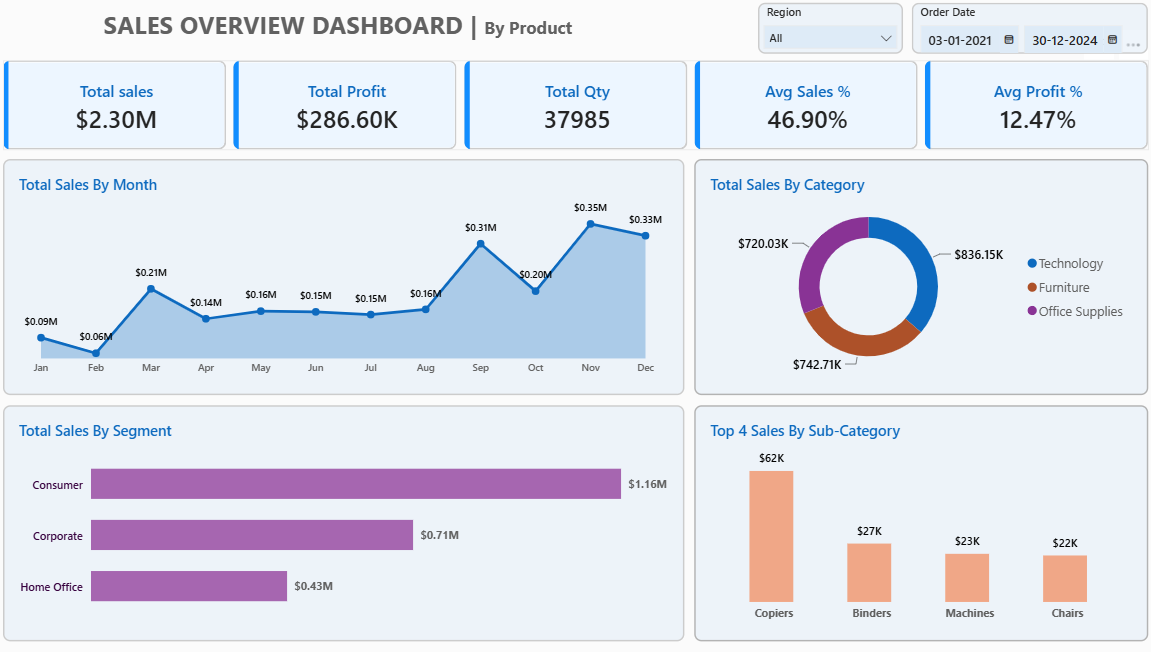

Layout of this report page (visuals, bound fields, positions):
{"tool":"powerbi","page":{"name":"Sales By Product","canvas":[1280,720],"ordinal":0},"visuals":[{"type":"textbox","box":[11,9.6,1257,46.7],"z":0},{"type":"cardVisual","fields":{"Data":["Measure_Table.Total sales","Measure_Table.Total Profit","Measure_Table.Total Qty","Measure_Table.Avg Sales %","Measure_Table.Avg Sales"]},"box":[11,67.2,1258.3,98.8],"z":1000},{"type":"areaChart","title":"Total Sales By Month","fields":{"Category":["Date_Table.Month"],"Y":["Measure_Table.Total sales"]},"box":[11,175.6,747.9,259.3],"z":2000},{"type":"donutChart","title":"Total Sales By Category","fields":{"Y":["Measure_Table.Total sales"],"Category":["Sales Data.Category"]},"box":[769.8,175.6,498.1,259.3],"z":3000},{"type":"clusteredBarChart","title":"Total Sales By Segment","fields":{"Category":["Sales Data.Segment"],"Y":["Measure_Table.Total sales"]},"box":[11,446,747.9,259.3],"z":4000},{"type":"columnChart","title":"Top 4 Sales By Sub-Category","fields":{"Category":["Sales Data.Sub-Category"],"Y":["Measure_Table.Total sales"]},"box":[769.8,446,498.1,259.3],"z":5000},{"type":"slicer","fields":{"Values":["Sales Data.Region"]},"box":[839.8,4.1,159.2,56.3],"z":6000},{"type":"slicer","fields":{"Values":["Sales Data.Order Date"]},"box":[1008.6,4.1,259.3,56.3],"z":7000}]}

Visuals, with their boxes in screenshot pixels (x1, y1, x2, y2), scaled from the page's 1280x720 canvas onto the 1151x652 screenshot:
textbox: <region>10, 9, 1140, 51</region>
cardVisual - Measure_Table.Total sales x Measure_Table.Total Profit: <region>10, 61, 1141, 150</region>
"Total Sales By Month" areaChart: <region>10, 159, 682, 394</region>
"Total Sales By Category" donutChart: <region>692, 159, 1140, 394</region>
"Total Sales By Segment" clusteredBarChart: <region>10, 404, 682, 639</region>
"Top 4 Sales By Sub-Category" columnChart: <region>692, 404, 1140, 639</region>
slicer - Sales Data.Region: <region>755, 4, 898, 55</region>
slicer - Sales Data.Order Date: <region>907, 4, 1140, 55</region>
